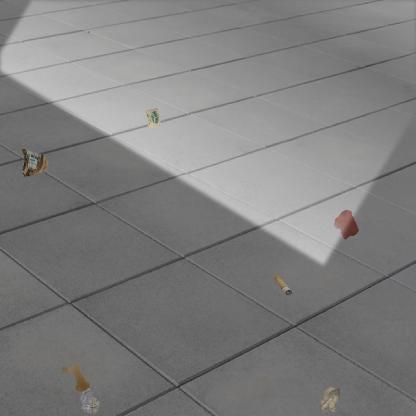dirty: (20, 147, 50, 177), (78, 386, 102, 416), (320, 387, 340, 415), (272, 274, 294, 297), (144, 106, 162, 129)
liquid: (61, 362, 90, 392), (333, 208, 360, 240)
